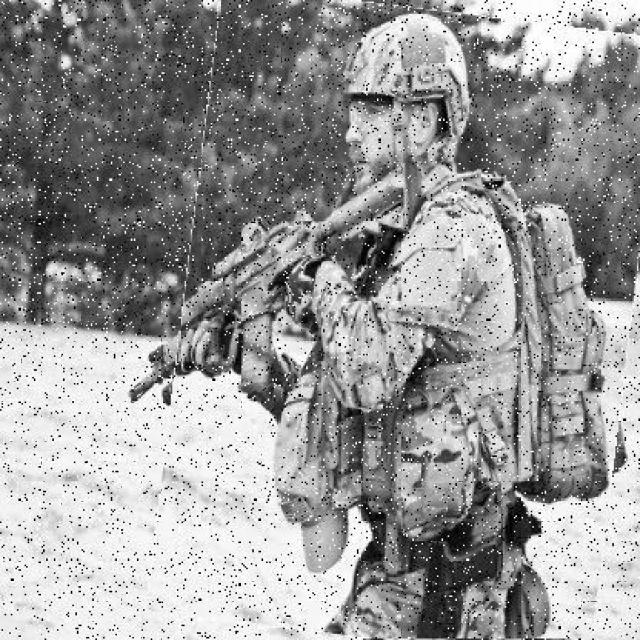Person: (165, 1, 640, 639)
